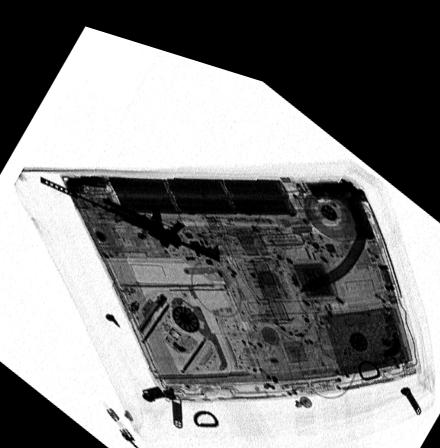Gun: (33, 169, 217, 249)
